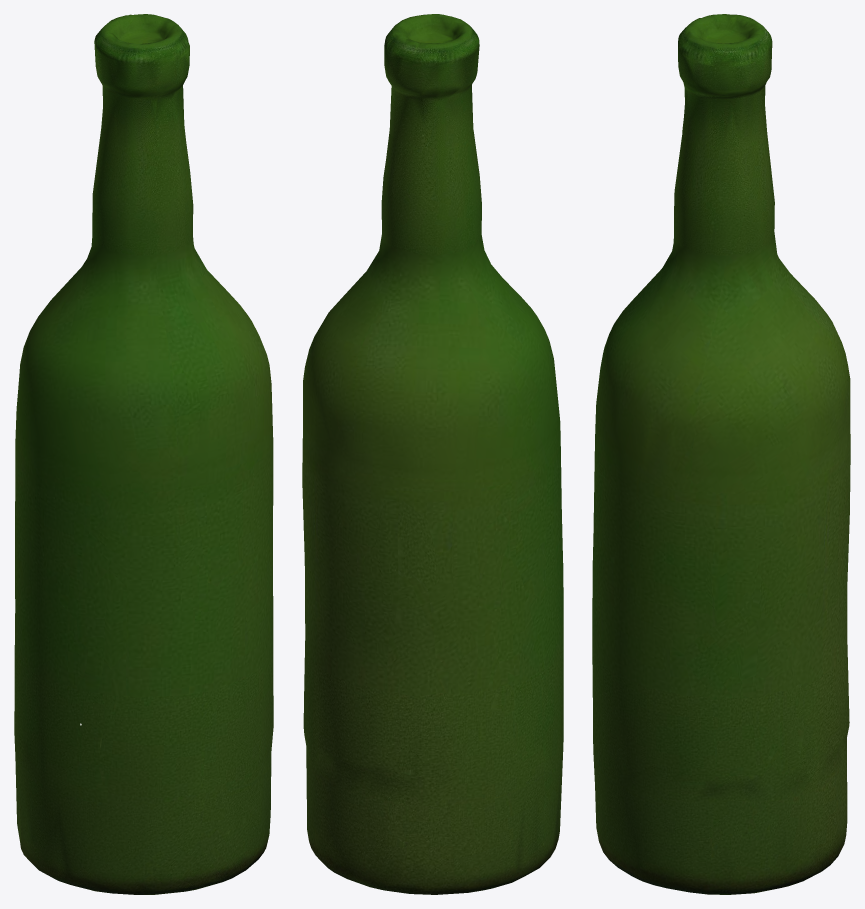
The model's file is Dark_Green_Bottle.glb.
The picture shows the model from 3 angles, left to right: view 1: azimuth 30°, elevation 25°; view 2: azimuth 150°, elevation 25°; view 3: azimuth 270°, elevation 25°; orthographic projection.
Visible parts, largest first — view 1: tripo_node_c76db298-6a6c-40d9-b683-4a102bb0ef7e; view 2: tripo_node_c76db298-6a6c-40d9-b683-4a102bb0ef7e; view 3: tripo_node_c76db298-6a6c-40d9-b683-4a102bb0ef7e.
Boxes of the visible parts, <box> form: tripo_node_c76db298-6a6c-40d9-b683-4a102bb0ef7e: <box>14,14,273,894</box>; tripo_node_c76db298-6a6c-40d9-b683-4a102bb0ef7e: <box>302,14,563,894</box>; tripo_node_c76db298-6a6c-40d9-b683-4a102bb0ef7e: <box>592,14,850,894</box>.
Bounding box in the file's own units: 0.2846 × 0.9811 × 0.2813.
Materials: 1 (1 with a texture image).
